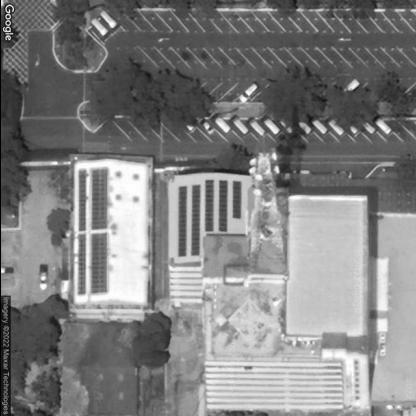solar-pv-panel: (90, 232, 106, 296), (90, 168, 106, 230), (175, 186, 186, 261), (190, 185, 200, 258), (77, 170, 86, 231), (216, 180, 226, 233), (77, 234, 85, 296), (204, 179, 213, 234), (230, 181, 241, 220)
